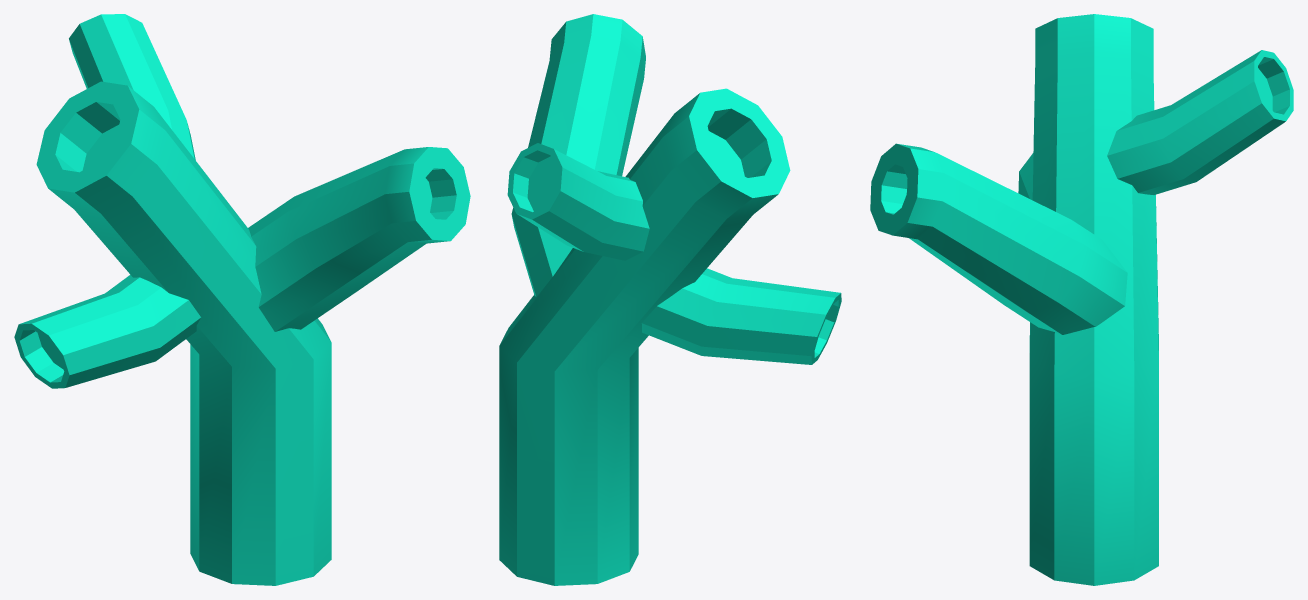
Rendered from Coral light blue.fbx.
3 views of the same model, side by side, from view 1: azimuth 30°, elevation 25°; view 2: azimuth 150°, elevation 25°; view 3: azimuth 270°, elevation 25° (orthographic). The views are drawn at different scales.
Visible parts, largest first — view 1: Coral_light_blue; view 2: Coral_light_blue; view 3: Coral_light_blue.
Boxes of the visible parts, x1,y1,x2,y2 form: Coral_light_blue: (14,14,470,585); Coral_light_blue: (499,14,841,585); Coral_light_blue: (870,14,1293,585).
Bounding box in the file's own units: 33.86 × 44.8 × 35.72.
